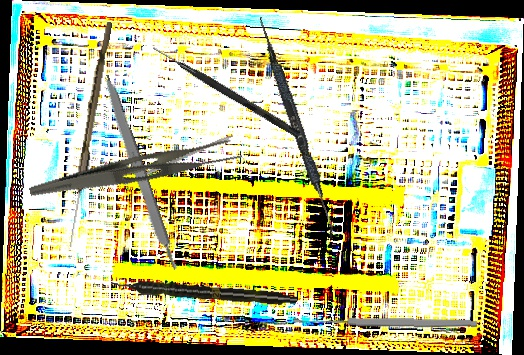Dressing Forceps: (28, 127, 244, 220)
Handpiece: (110, 275, 298, 309)
Hook Surgical: (150, 45, 302, 138)
Scalpel Handle: (98, 73, 180, 273), (122, 132, 234, 187)
Spatula Surgical: (251, 16, 343, 239)
Surgical Spoon: (65, 21, 113, 248), (292, 315, 478, 329)
